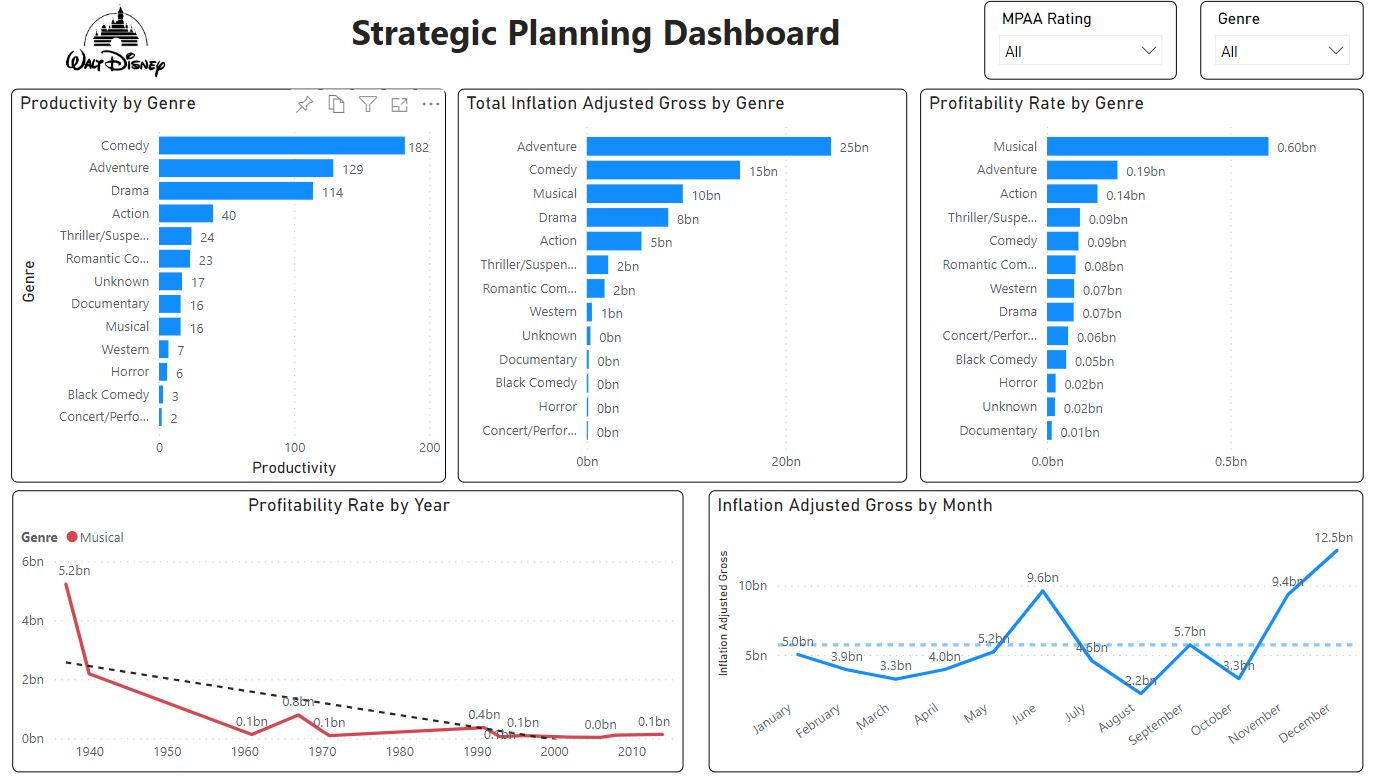

The page's visual inventory and layout, read from the dashboard file:
{"tool":"powerbi","page":{"name":"Duplicate of Page 1","canvas":[1280,720],"ordinal":0},"visuals":[{"type":"lineChart","title":"Profitability Rate by Year","fields":{"Category":["Onyx Data - DataDNA Dataset Challenge - Disney Movies Total Gross.Date Released.Variation.Date Hierarchy.Year","Onyx Data - DataDNA Dataset Challenge - Disney Movies Total Gross.Date Released.Variation.Date Hierarchy.Month"],"Y":["Table.Profitability Rate"],"Series":["Onyx Data - DataDNA Dataset Challenge - Disney Movies Total Gross.Genre"]},"box":[18.9,454.4,613.5,257.5],"z":0},{"type":"textbox","box":[153.4,13.3,479.1,66.3],"z":1000},{"type":"slicer","fields":{"Values":["Onyx Data - DataDNA Dataset Challenge - Disney Movies Total Gross.MPAA Rating"]},"box":[916.4,7.6,176.1,72],"z":2000},{"type":"barChart","fields":{"Category":["Onyx Data - DataDNA Dataset Challenge - Disney Movies Total Gross.Genre"],"Y":["Sum(Onyx Data - DataDNA Dataset Challenge - Disney Movies Total Gross.Inflation Adjusted Gross)"]},"box":[426,87.1,410.9,359.8],"z":3000},{"type":"barChart","fields":{"Category":["Onyx Data - DataDNA Dataset Challenge - Disney Movies Total Gross.Genre"],"Y":["CountNonNull(Onyx Data - DataDNA Dataset Challenge - Disney Movies Total Gross.Movie Title)"]},"box":[17,87.1,397.6,359.8],"z":4000},{"type":"barChart","fields":{"Y":["Onyx Data - DataDNA Dataset Challenge - Disney Movies Total Gross.Index"],"Category":["Onyx Data - DataDNA Dataset Challenge - Disney Movies Total Gross.Genre"]},"box":[848.3,87.1,405.2,359.8],"z":5000},{"type":"image","box":[0,0,166.6,87.1],"z":6000},{"type":"slicer","fields":{"Values":["Onyx Data - DataDNA Dataset Challenge - Disney Movies Total Gross.Genre"]},"box":[1103.9,7.6,149.6,72],"z":8000},{"type":"lineChart","fields":{"Category":["Onyx Data - DataDNA Dataset Challenge - Disney Movies Total Gross.Date Released.Variation.Date Hierarchy.Month"],"Y":["Sum(Onyx Data - DataDNA Dataset Challenge - Disney Movies Total Gross.Inflation Adjusted Gross)"]},"box":[655.1,454.4,598.3,257.5],"z":8001},{"type":"slicer","fields":{"Values":["Onyx Data - DataDNA Dataset Challenge - Disney Movies Total Gross.Date Released"]},"box":[640,0,255.6,85.2],"z":8002}]}

Visuals, with their boxes in screenshot pixels (x1, y1, x2, y2), scaled from the page's 1280x720 canvas onto the 1378x777 screenshot:
"Profitability Rate by Year" lineChart: [20,490,681,768]
textbox: [165,14,681,86]
slicer - Onyx Data - DataDNA Dataset Challenge - Disney Movies Total Gross.MPAA Rating: [987,8,1176,86]
barChart - Onyx Data - DataDNA Dataset Challenge - Disney Movies Total Gross.Genre x Sum(Onyx Data - DataDNA Dataset Challenge - Disney Movies Total Gross.Inflation Adjusted Gross): [459,94,901,482]
barChart - Onyx Data - DataDNA Dataset Challenge - Disney Movies Total Gross.Genre x CountNonNull(Onyx Data - DataDNA Dataset Challenge - Disney Movies Total Gross.Movie Title): [18,94,446,482]
barChart - Onyx Data - DataDNA Dataset Challenge - Disney Movies Total Gross.Index x Onyx Data - DataDNA Dataset Challenge - Disney Movies Total Gross.Genre: [913,94,1349,482]
image: [0,0,179,94]
slicer - Onyx Data - DataDNA Dataset Challenge - Disney Movies Total Gross.Genre: [1188,8,1349,86]
lineChart - Onyx Data - DataDNA Dataset Challenge - Disney Movies Total Gross.Date Released.Variation.Date Hierarchy.Month x Sum(Onyx Data - DataDNA Dataset Challenge - Disney Movies Total Gross.Inflation Adjusted Gross): [705,490,1349,768]
slicer - Onyx Data - DataDNA Dataset Challenge - Disney Movies Total Gross.Date Released: [689,0,964,92]
